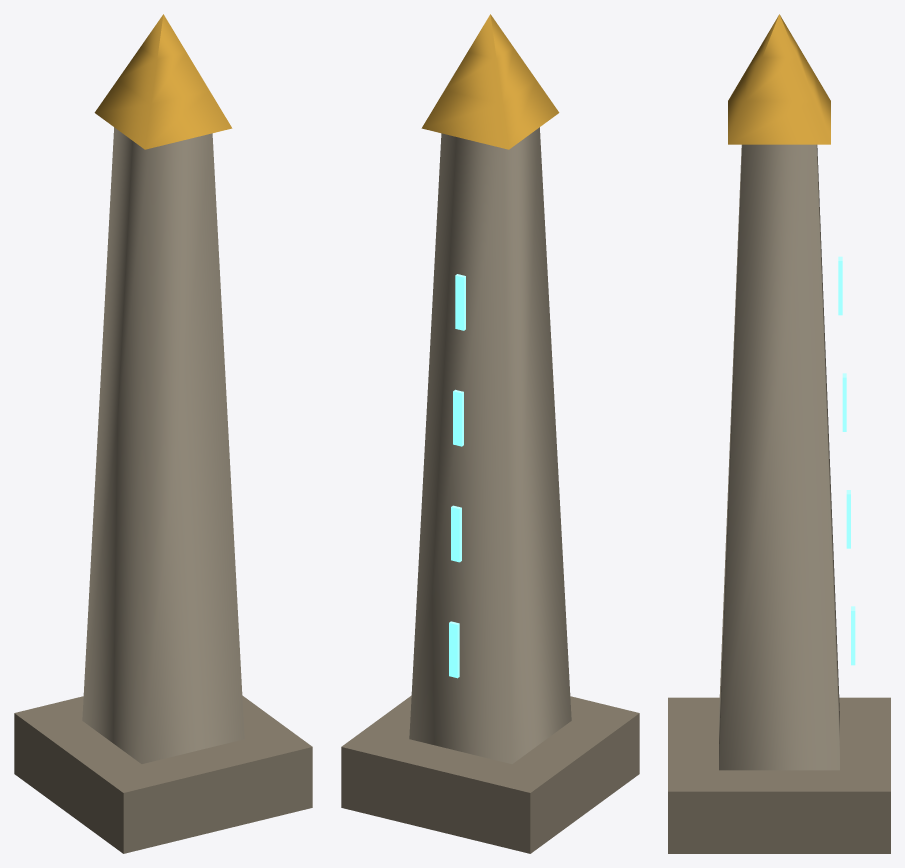
The model's file is Obelisk.glb.
3 renders of one model, left to right at view 1: azimuth 30°, elevation 25°; view 2: azimuth 150°, elevation 25°; view 3: azimuth 270°, elevation 25°, orthographic. The views are drawn at different scales.
Parts seen in each view (by area): view 1: Body; view 2: Body, Rune; view 3: Body, Rune.
Part boxes in pixels (x1,y1,x2,y2): Body: (14, 14, 312, 853); Body: (341, 14, 639, 853); Rune: (449, 274, 465, 678); Body: (668, 14, 890, 853); Rune: (838, 256, 855, 665).
Size of the model in its own units: 2.6 by 10.2 by 2.6.
Materials: 2 (1 with a texture image).
